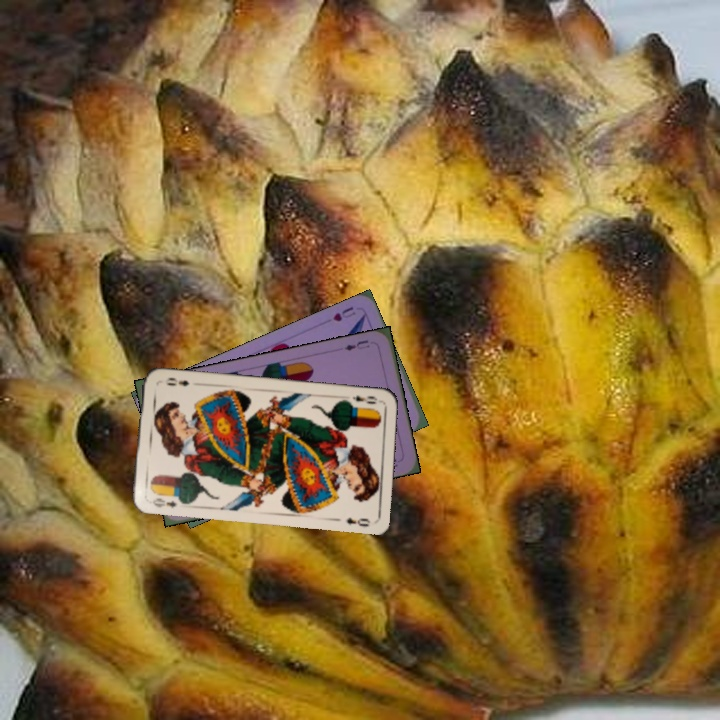EO: (348, 391, 380, 407), (149, 494, 179, 511)
EU: (340, 336, 372, 353)
HU: (329, 303, 358, 324)
